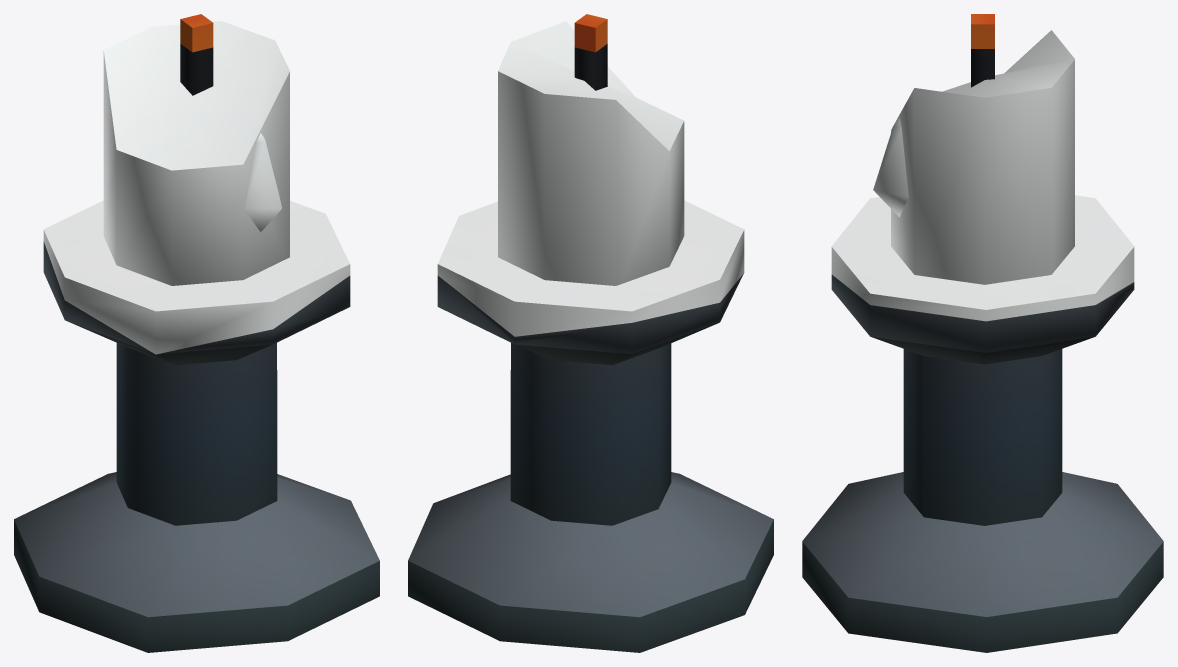
Rendered from candle_third.fbx.
3 views of the same model, side by side, from view 1: azimuth 30°, elevation 25°; view 2: azimuth 150°, elevation 25°; view 3: azimuth 270°, elevation 25° (orthographic).
Visible parts, largest first — view 1: candle_third; view 2: candle_third; view 3: candle_third.
Boxes of the visible parts, box(x1,y1,x2,y2) form: candle_third: box(14, 14, 379, 652); candle_third: box(408, 14, 773, 652); candle_third: box(802, 14, 1163, 652).
Size of the model in its own units: 18.35 by 31.2 by 18.35.
